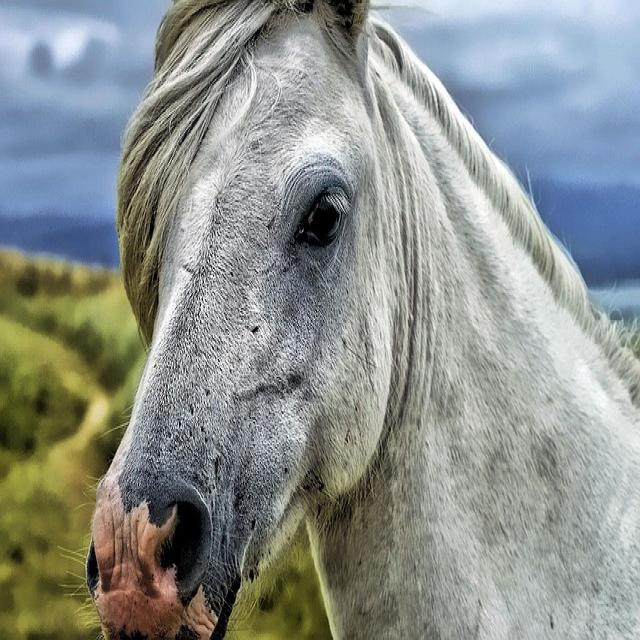Herbivorous: (86, 0, 640, 640)
